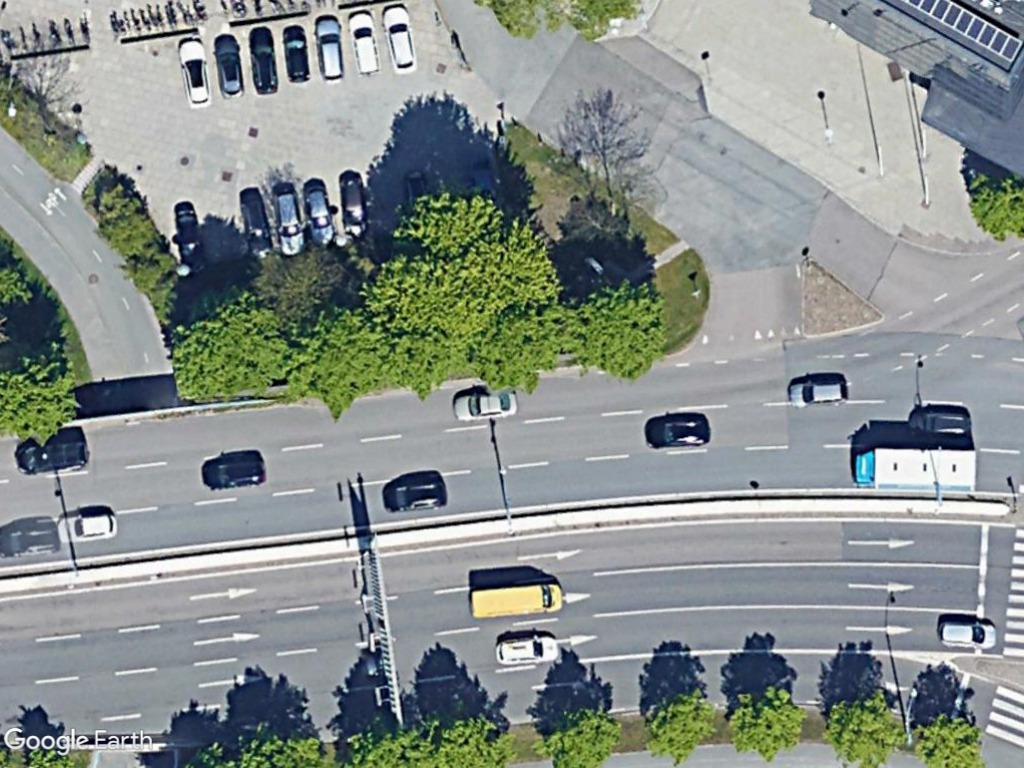car: (173, 33, 216, 113), (449, 382, 522, 428), (311, 5, 351, 88), (378, 473, 450, 519), (380, 4, 422, 80), (343, 6, 385, 81), (197, 451, 268, 495), (268, 181, 308, 259), (641, 413, 717, 453), (489, 632, 566, 671), (901, 403, 977, 442), (931, 616, 1004, 656), (299, 178, 338, 251), (54, 507, 123, 548), (246, 24, 284, 97), (784, 374, 857, 412), (210, 30, 248, 101), (278, 21, 317, 89), (337, 173, 372, 244)
truck: (849, 441, 987, 499)
van: (465, 576, 568, 623)
